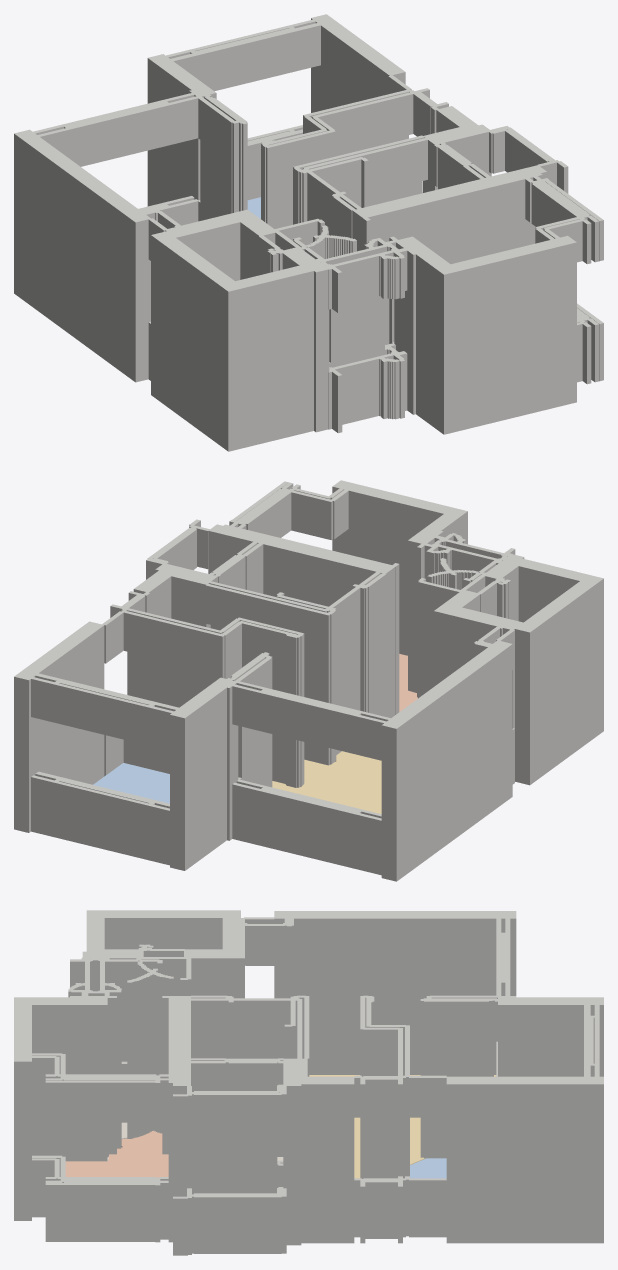
3 views of the same model, one above another, from view 1: azimuth 30°, elevation 25°; view 2: azimuth 150°, elevation 25°; view 3: azimuth 270°, elevation 25° (orthographic). The views are drawn at different scales.
Visible parts, largest first — view 1: walls; view 2: walls, room:living:1, room:bedroom:0, room:kitchen:5; view 3: walls, room:kitchen:5, room:living:1, room:bedroom:0.
Part boxes in pixels (x1,y1,x2,y2): walls: [14, 14, 603, 451]; walls: [14, 480, 603, 881]; room:living:1: [272, 751, 381, 813]; room:bedroom:0: [93, 763, 169, 803]; room:kitchen:5: [399, 654, 417, 711]; walls: [14, 910, 603, 1255]; room:kitchen:5: [65, 1130, 168, 1177]; room:living:1: [309, 1075, 496, 1178]; room:bedroom:0: [410, 1158, 446, 1178].
Bounding box in the file's own units: 7.02 × 2.8 × 9.4.
